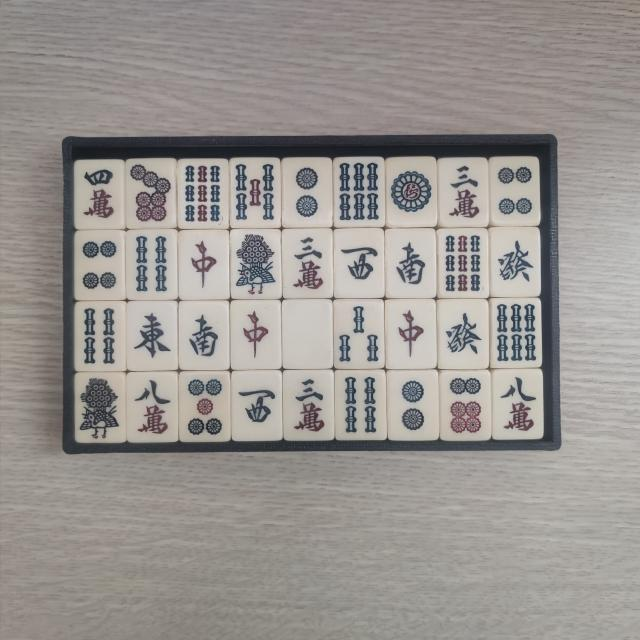hdg: (442, 306, 484, 366), (496, 234, 538, 294)
hdr: (184, 233, 226, 294), (390, 304, 430, 366), (236, 305, 276, 367)
hdw: (288, 303, 330, 364)
hwe: (130, 305, 174, 365)
hws: (184, 306, 226, 366), (392, 233, 432, 293)
hww: (338, 234, 380, 296), (238, 375, 280, 436)
sb1: (80, 378, 124, 442), (234, 232, 278, 296)
sb3: (337, 302, 380, 365)
sb4: (130, 234, 172, 296), (80, 306, 122, 368), (340, 374, 380, 438)
sb5: (233, 161, 277, 224)
sb6: (336, 160, 382, 223), (496, 303, 540, 366)
sb9: (442, 234, 484, 296), (183, 162, 224, 224)
sc3: (286, 232, 328, 294), (443, 160, 483, 222), (289, 373, 329, 435)
sc4: (80, 164, 121, 224)
sc8: (130, 377, 174, 439), (498, 375, 540, 437)
sd1: (390, 160, 436, 222)
sd2: (288, 162, 329, 224), (394, 374, 433, 436)
sd4: (80, 235, 122, 295), (494, 159, 534, 220)
sd5: (184, 378, 226, 440)
sd6: (446, 376, 486, 438)
sd7: (128, 161, 172, 224)
